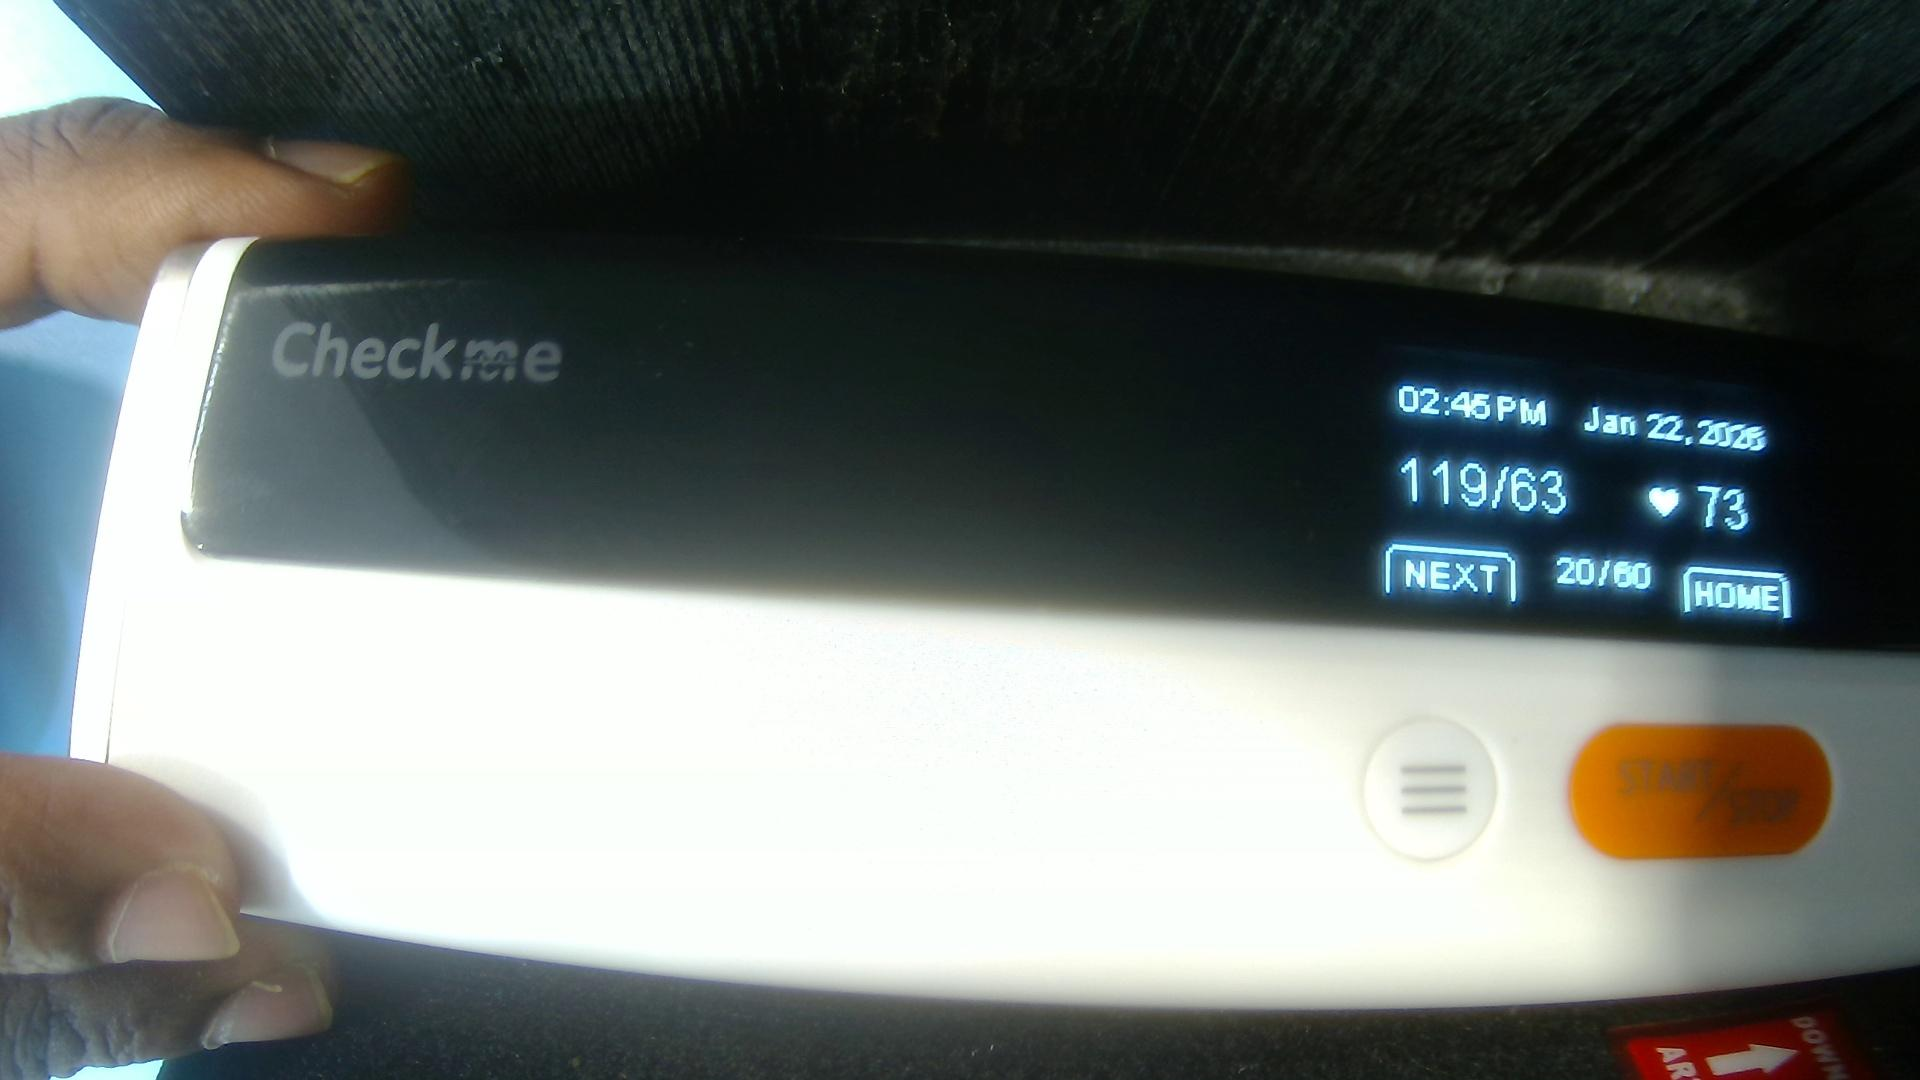DISPLAY: (198, 244, 1915, 640)
